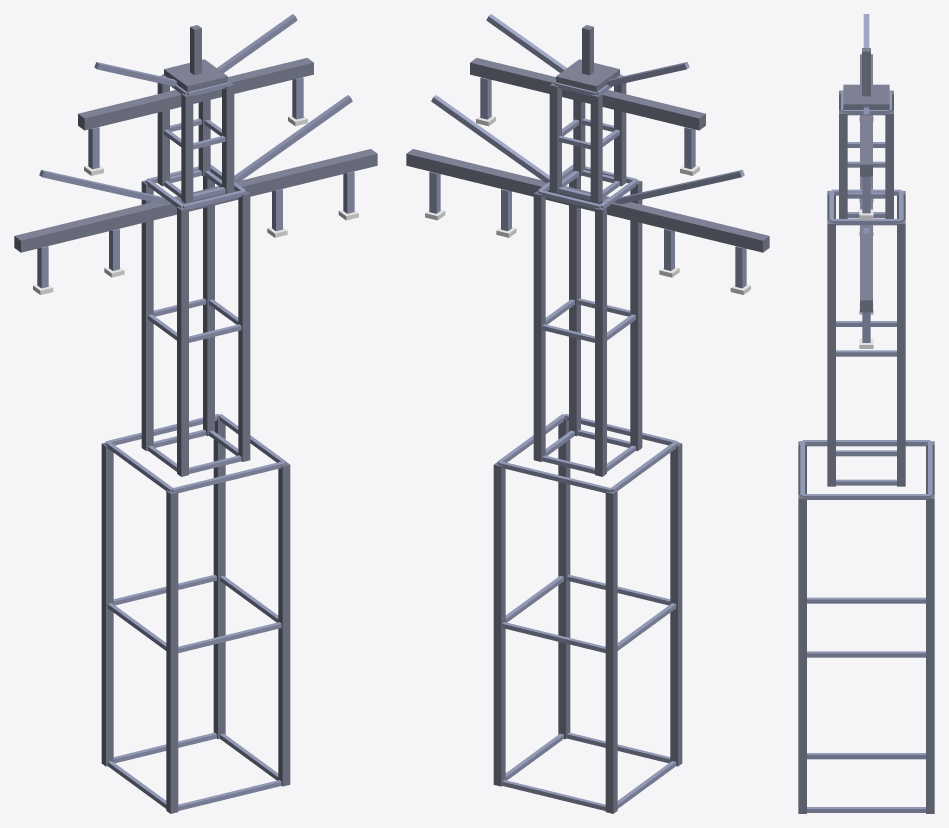
File: pylone-haute-tension.glb
The picture shows the model from 3 angles, left to right: view 1: azimuth 30°, elevation 25°; view 2: azimuth 150°, elevation 25°; view 3: azimuth 270°, elevation 25°; orthographic projection.
Visible parts, largest first — view 1: pylone-haute-tension; view 2: pylone-haute-tension; view 3: pylone-haute-tension.
Boxes of the visible parts, box(x1,y1,x2,y2) form: pylone-haute-tension: box(14, 14, 377, 813); pylone-haute-tension: box(406, 14, 769, 813); pylone-haute-tension: box(798, 14, 934, 813).
Bounding box in the file's own units: 0.7 × 1.4 × 0.235.
1 material, 1 textured.
